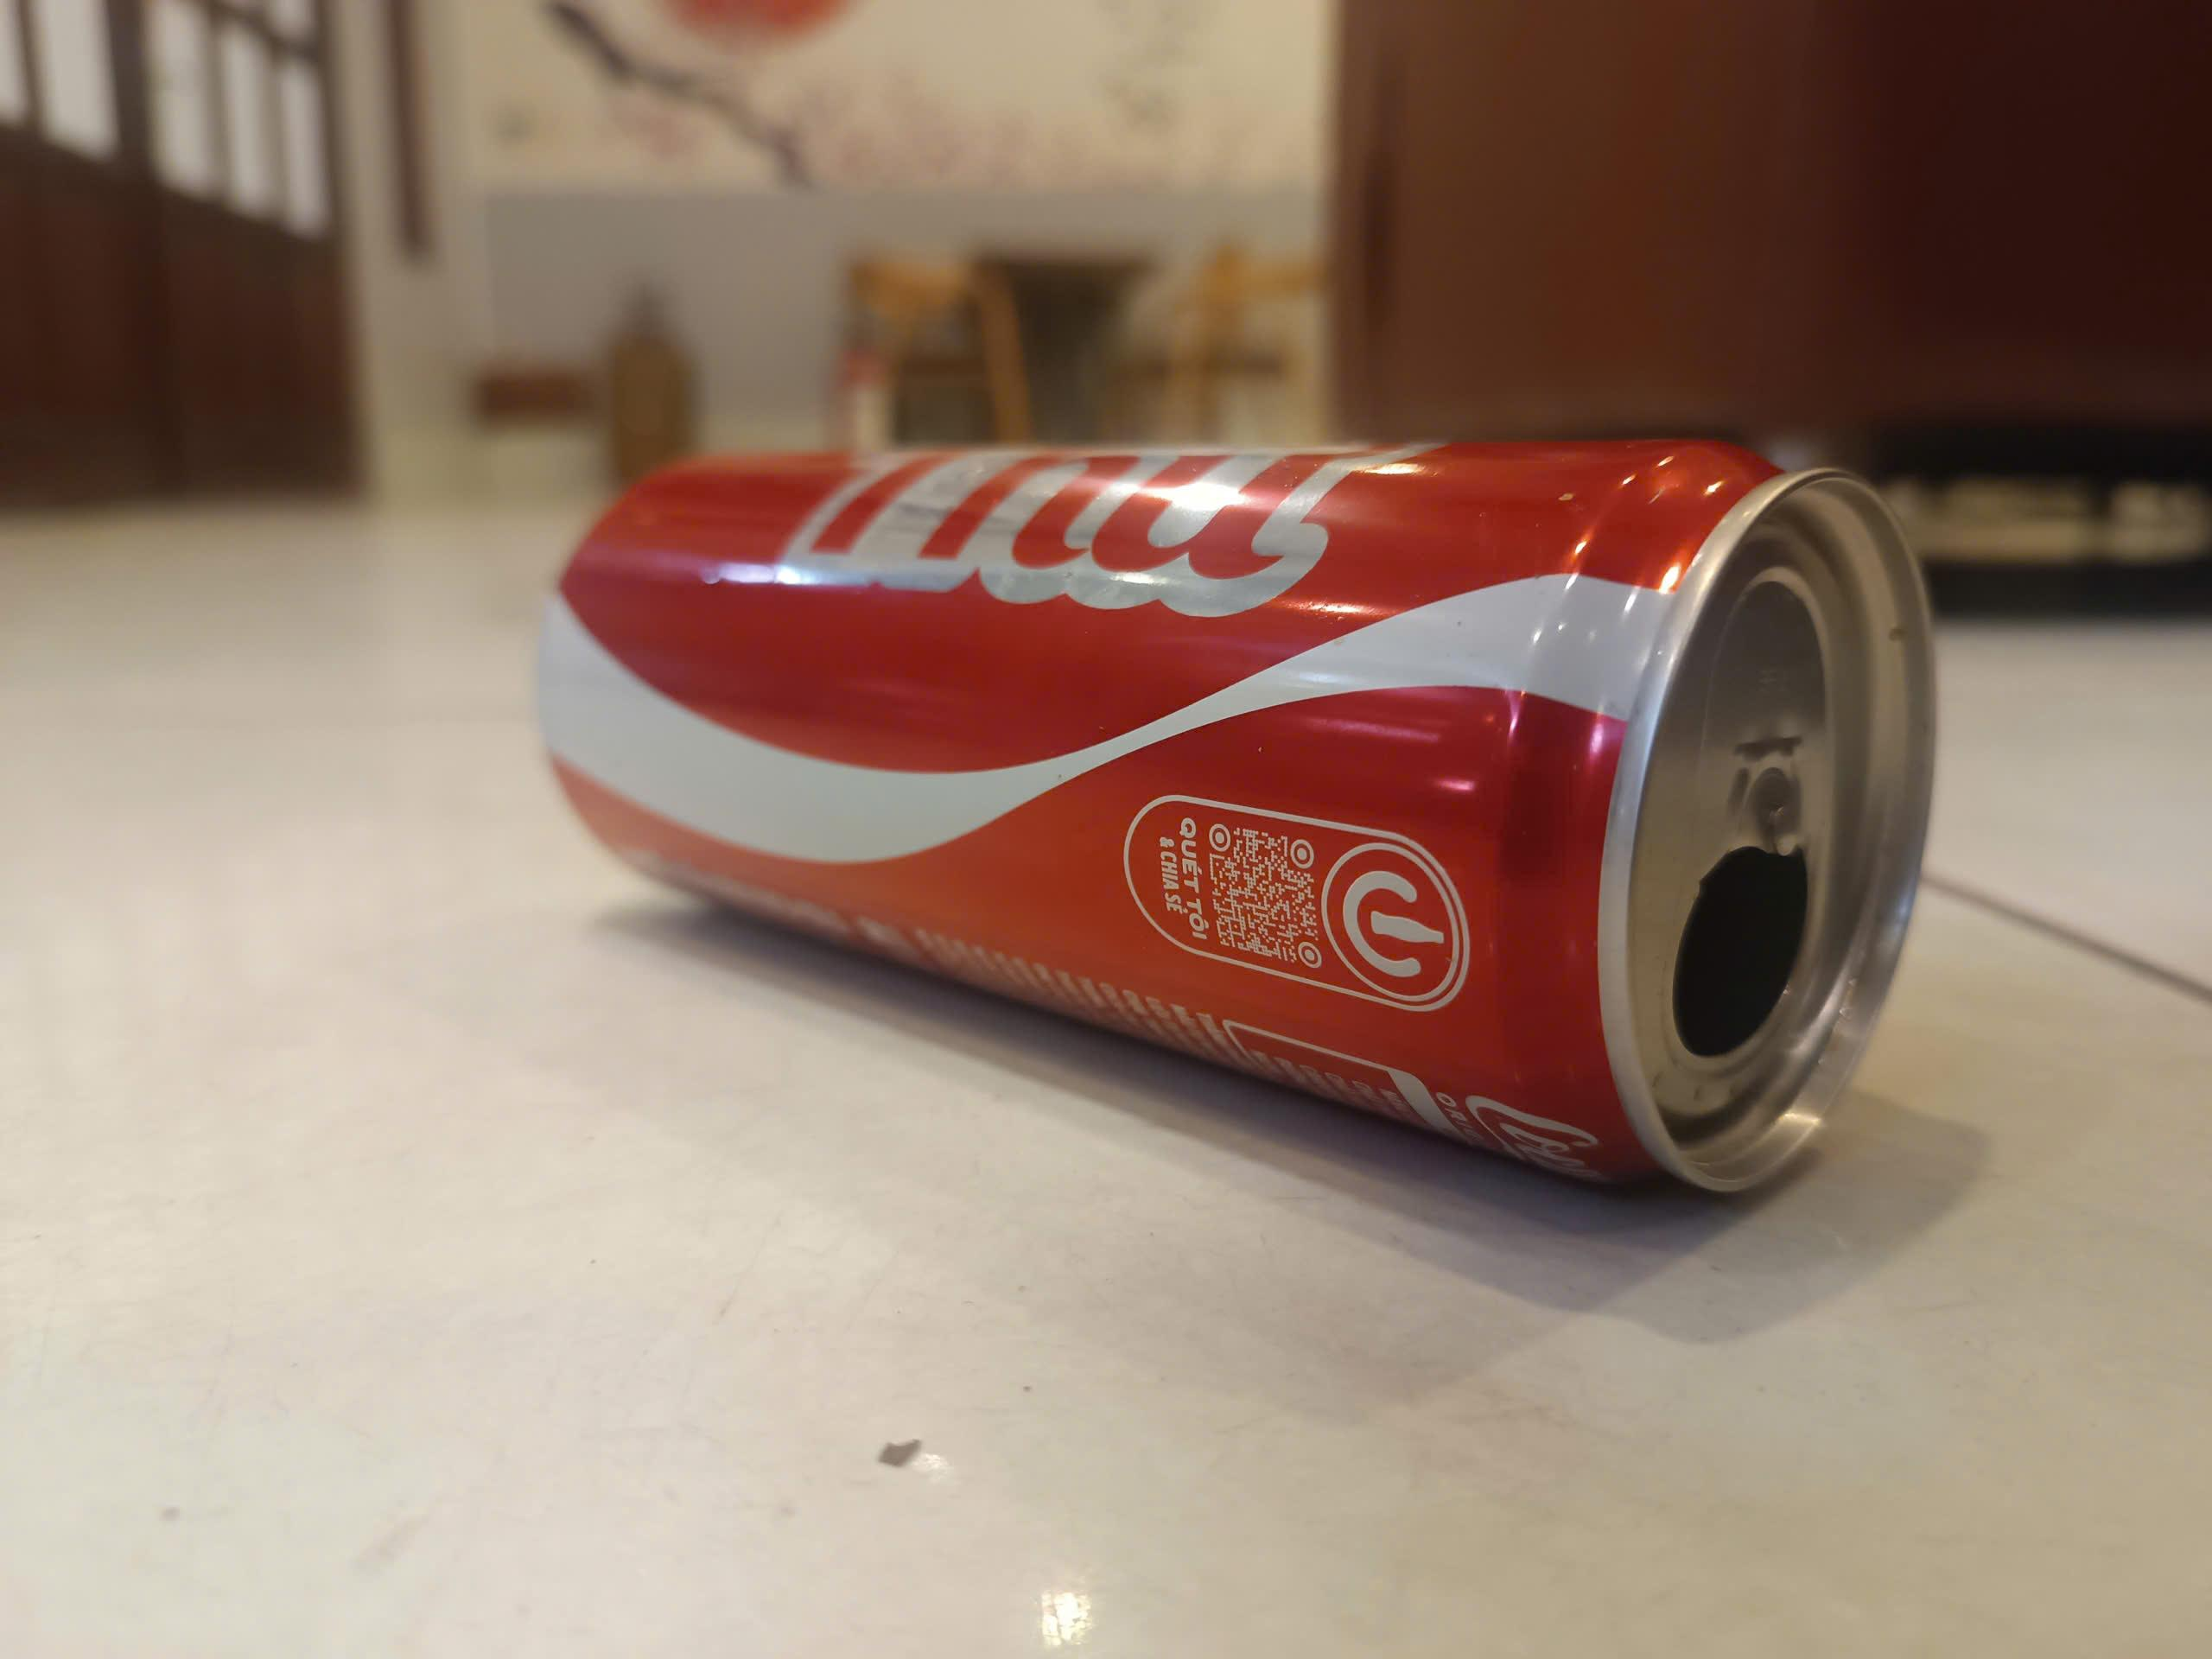Vo co: (536, 436, 1942, 1204)
